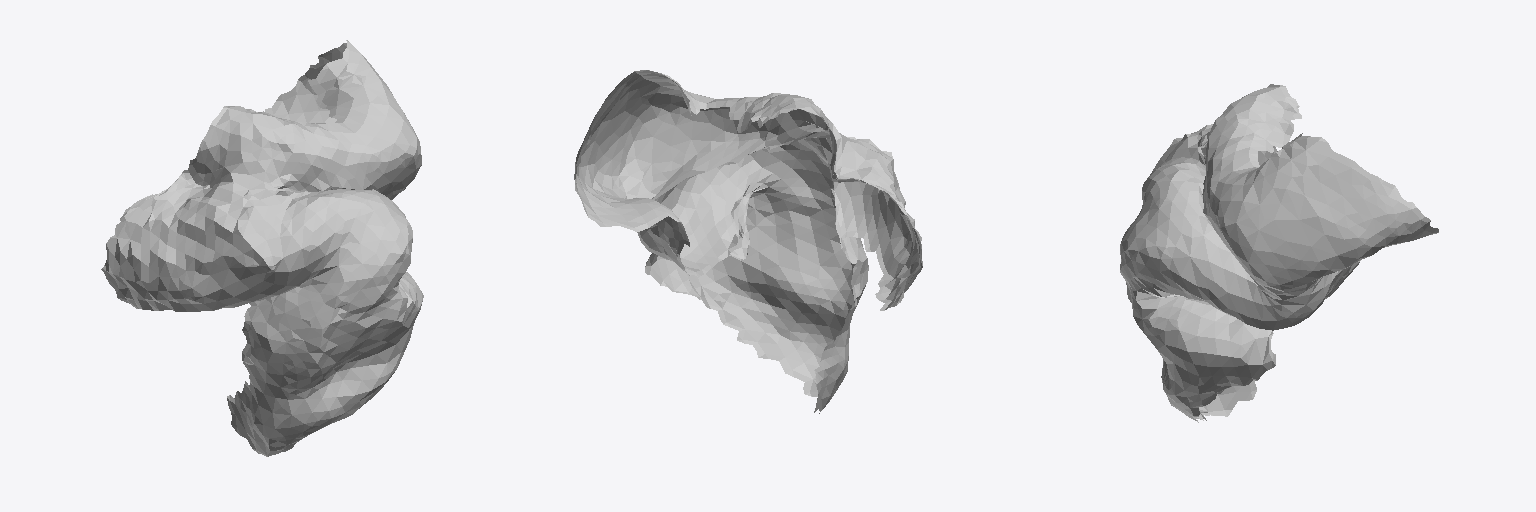
File: L_frontal_inferior_operculum.obj
3 views of the same model, side by side, from view 1: azimuth 30°, elevation 25°; view 2: azimuth 150°, elevation 25°; view 3: azimuth 270°, elevation 25° (orthographic).
Visible parts, largest first — view 1: L_frontal_inferior_operculum_R_frontal_inferior_operculum; view 2: L_frontal_inferior_operculum_R_frontal_inferior_operculum; view 3: L_frontal_inferior_operculum_R_frontal_inferior_operculum.
Part boxes in pixels (x1,y1,x2,y2): L_frontal_inferior_operculum_R_frontal_inferior_operculum: (101,40,423,456); L_frontal_inferior_operculum_R_frontal_inferior_operculum: (574,70,922,413); L_frontal_inferior_operculum_R_frontal_inferior_operculum: (1120,84,1438,422).
Size of the model in its own units: 112 by 121 by 101.